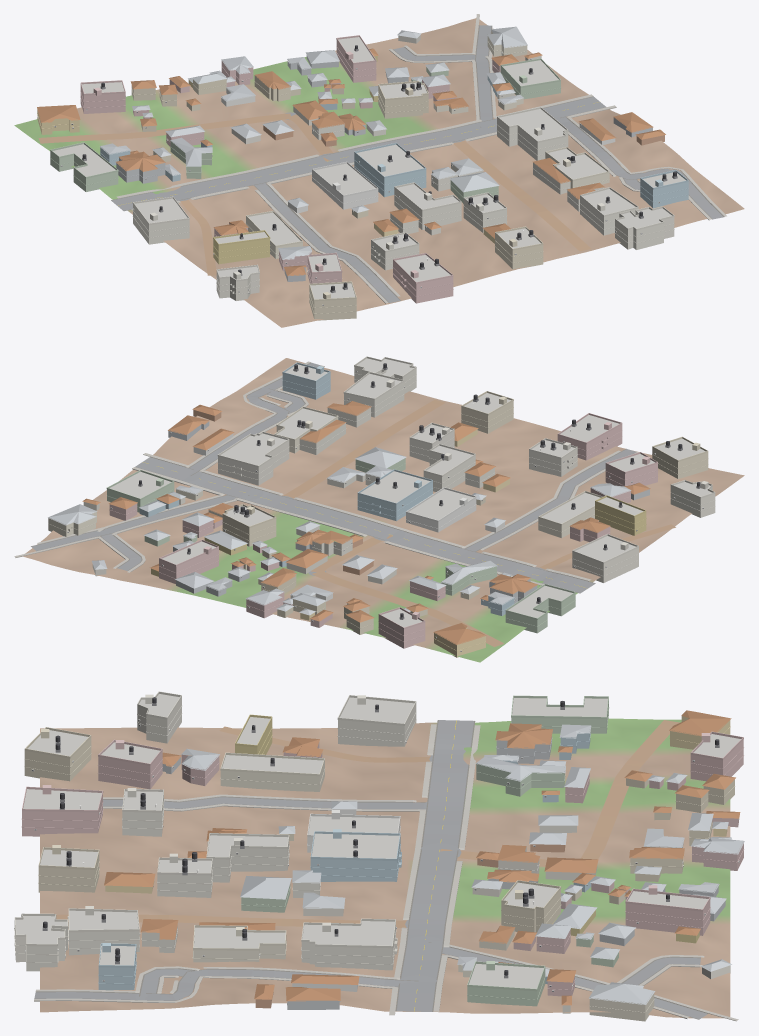
3 renders of one model, top to bottom at view 1: azimuth 30°, elevation 25°; view 2: azimuth 150°, elevation 25°; view 3: azimuth 270°, elevation 25°, orthographic. The views are drawn at different scales.
Parts seen in each view (by area): view 1: Buildings-col, Terrain-col, Roads-col, Details, Sidewalks-col; view 2: Buildings-col, Terrain-col, Roads-col, Details, Sidewalks-col; view 3: Buildings-col, Terrain-col, Roads-col, Details, Sidewalks-col.
Boxes of the visible parts, <box> form: Buildings-col: <box>37,26,688,320</box>; Terrain-col: <box>14,18,744,327</box>; Roads-col: <box>38,25,723,302</box>; Details: <box>37,35,688,314</box>; Sidewalks-col: <box>116,14,726,303</box>; Buildings-col: <box>48,358,715,657</box>; Terrain-col: <box>23,358,744,662</box>; Roads-col: <box>31,362,675,646</box>; Details: <box>48,356,715,651</box>; Sidewalks-col: <box>14,361,638,585</box>; Buildings-col: <box>14,694,744,1021</box>; Terrain-col: <box>40,718,730,1018</box>; Roads-col: <box>34,720,707,1019</box>; Details: <box>14,691,744,1012</box>; Sidewalks-col: <box>34,724,738,1021</box>.
Size of the model in its own units: 269 by 18.75 by 271.
